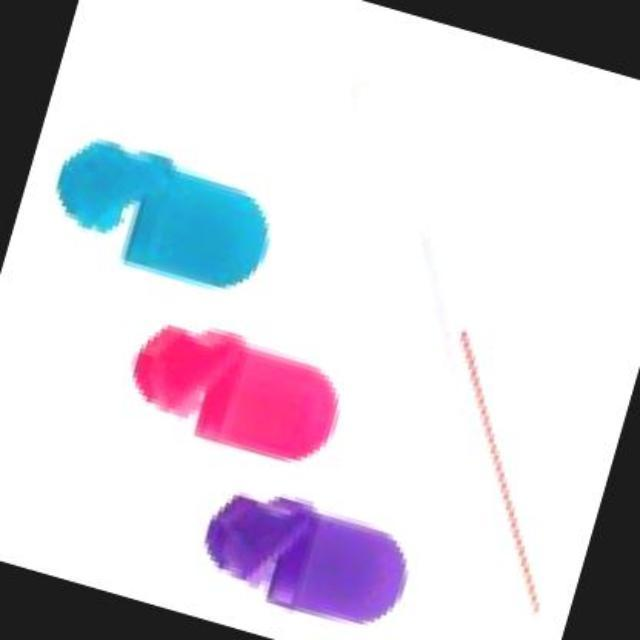toothbrush: (212, 6, 638, 638)
